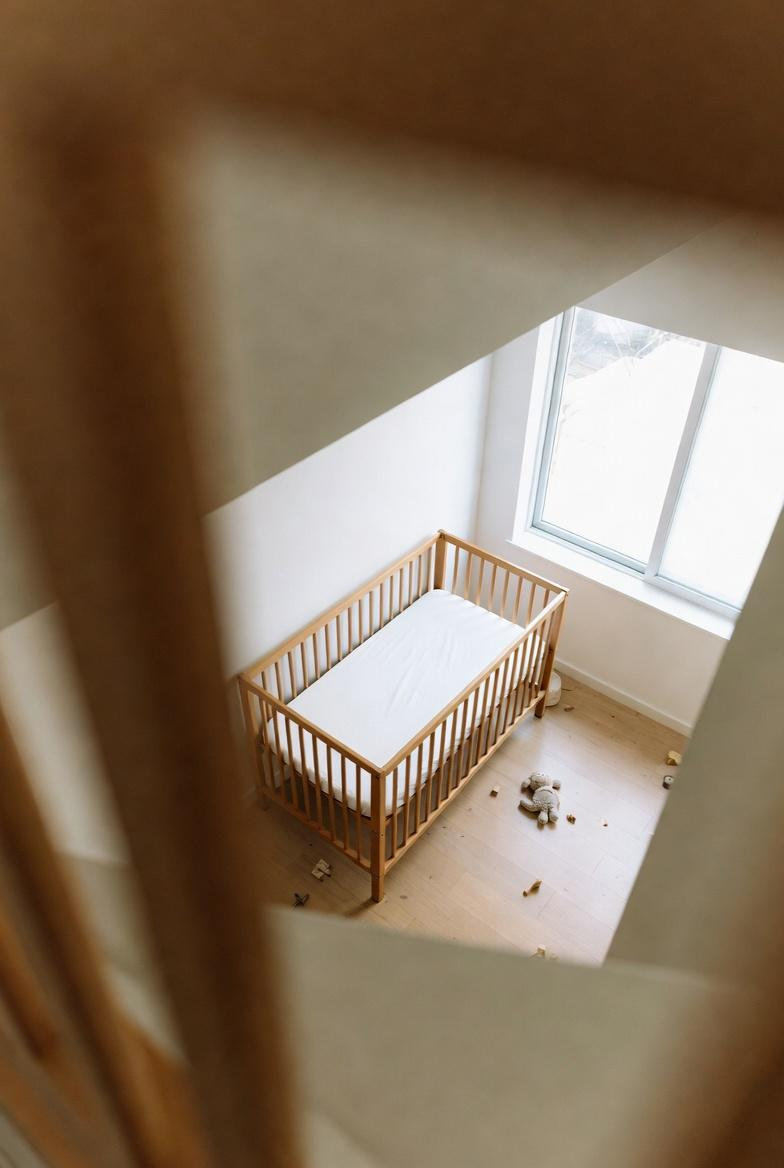crib: (233, 527, 573, 908)
